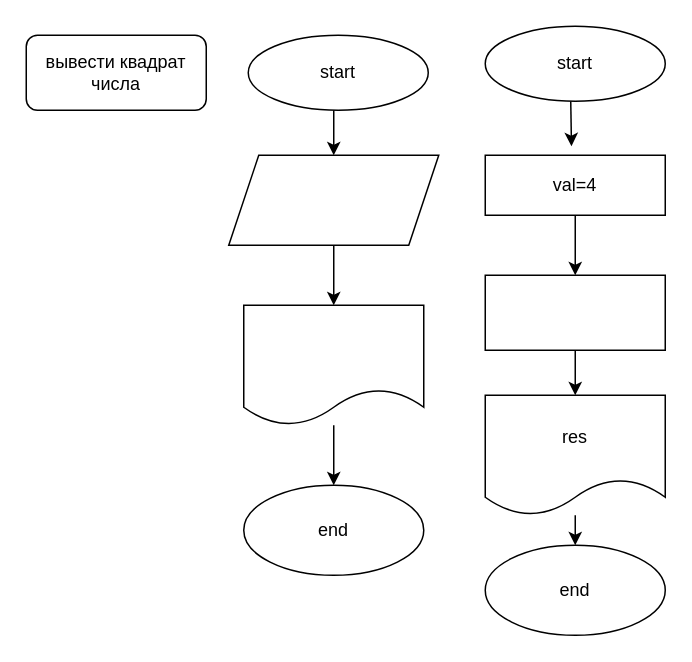
The diagram is 692 pixels wide and 662 high, and some of its shapes have lost their labels. Each missing label, with the centre of its shape:
res=val*val: (574,312)
value: (333,199)
value*value: (333,364)
